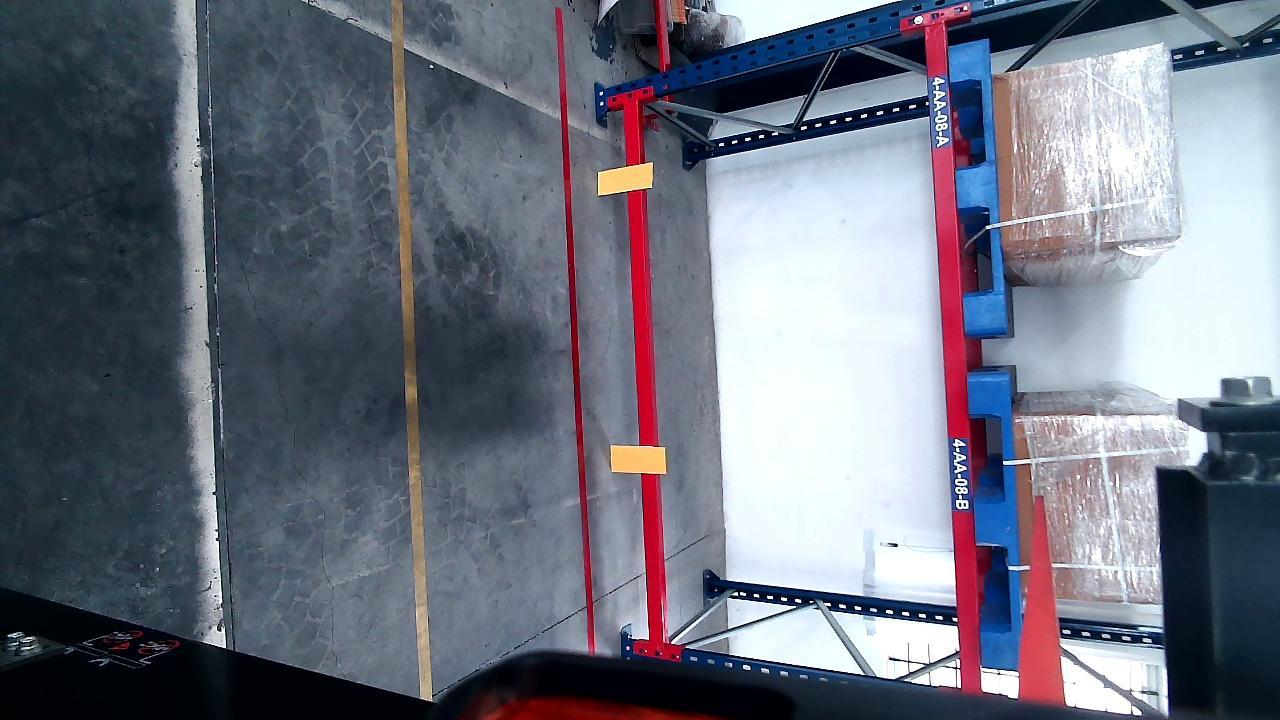red_line: (553, 7, 595, 653)
yellow_line: (393, 4, 432, 695)
